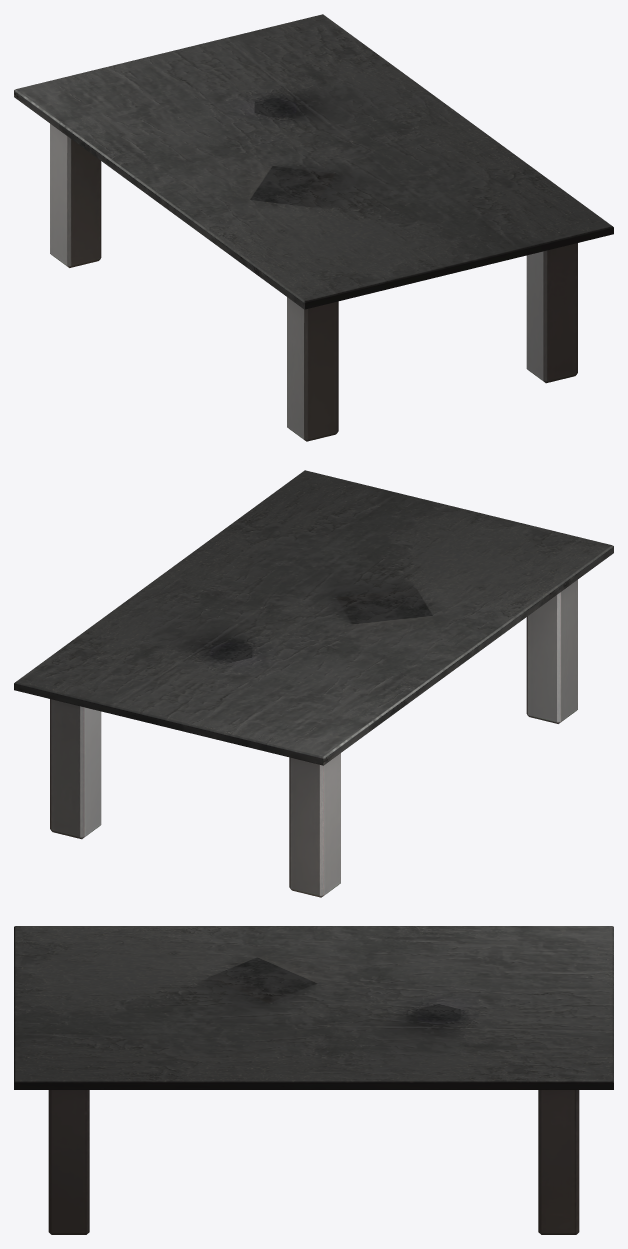
File: table.glb
3 renders of one model, top to bottom at view 1: azimuth 30°, elevation 25°; view 2: azimuth 150°, elevation 25°; view 3: azimuth 270°, elevation 25°, orthographic. The views are drawn at different scales.
Visible parts, largest first — view 1: table_Baked; view 2: table_Baked; view 3: table_Baked.
Part boxes in pixels (box(x1,y1,x2,y2)): table_Baked: box(14, 14, 613, 441); table_Baked: box(14, 470, 613, 897); table_Baked: box(14, 926, 613, 1234).
Size of the model in its own units: 0.7175 by 0.351 by 1.17.
Materials: 1 (1 with a texture image).
